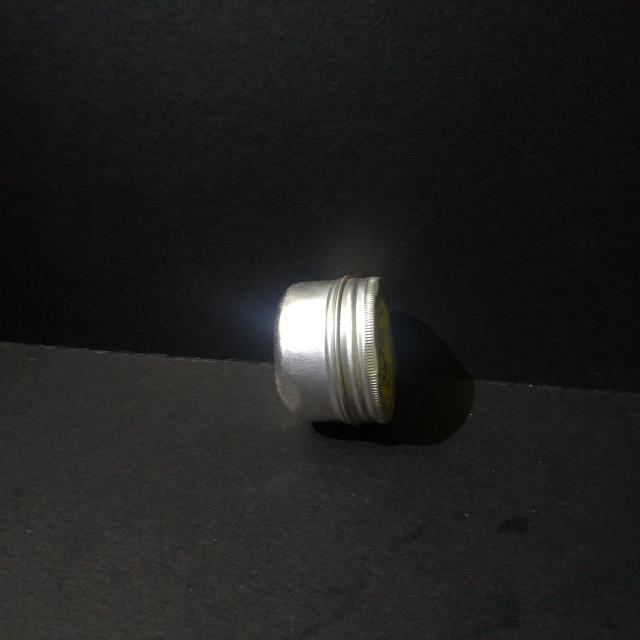metal-can: (273, 274, 402, 434)
